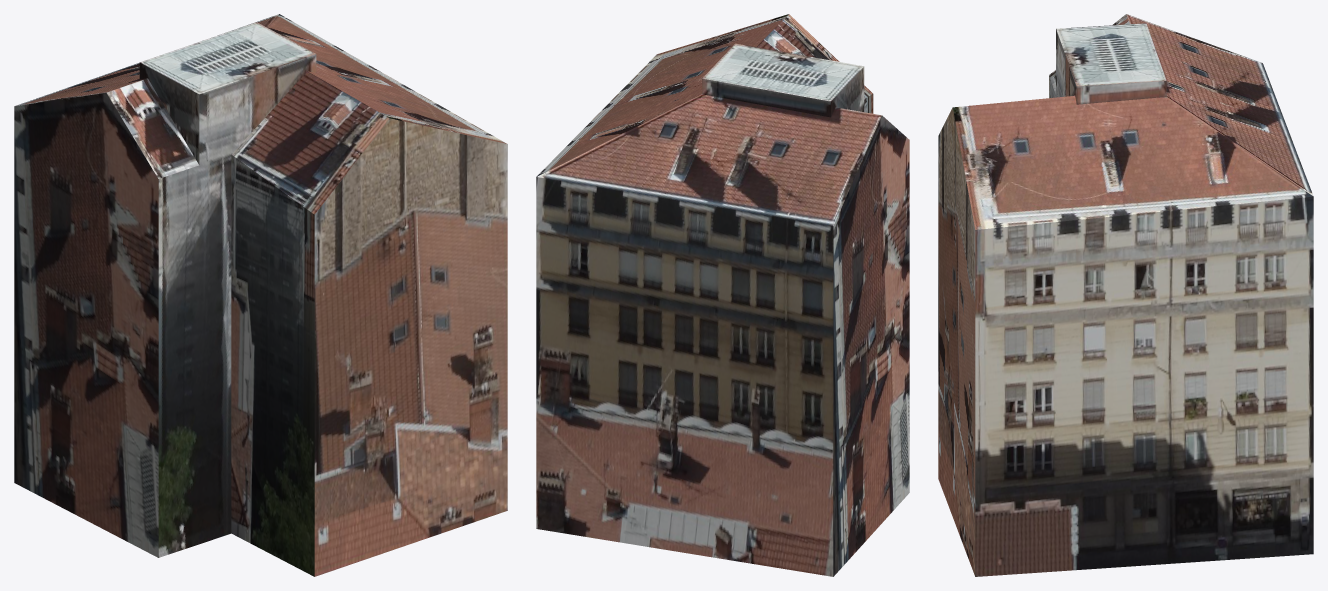
The picture shows the model from 3 angles, left to right: view 1: azimuth 30°, elevation 25°; view 2: azimuth 150°, elevation 25°; view 3: azimuth 270°, elevation 25°; orthographic projection. The views are drawn at different scales.
Visible parts, largest first — view 1: Z_UP; view 2: Z_UP; view 3: Z_UP.
Part boxes in pixels (<box>): Z_UP: <box>14,14,507,576</box>; Z_UP: <box>536,14,909,576</box>; Z_UP: <box>938,14,1313,576</box>.
Size of the model in its own units: 22.23 by 28.06 by 22.36.
Materials: 2 (1 with a texture image).
